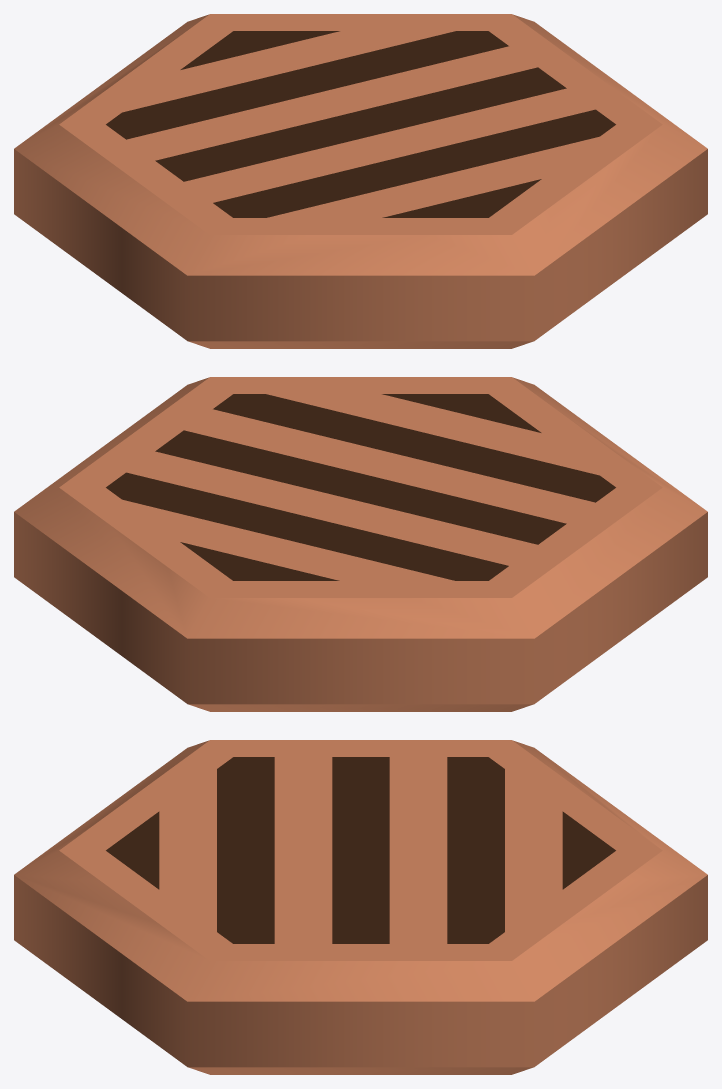
The model's file is Meat Patty.glb.
3 renders of one model, top to bottom at view 1: azimuth 30°, elevation 25°; view 2: azimuth 150°, elevation 25°; view 3: azimuth 270°, elevation 25°, orthographic.
Visible parts, largest first — view 1: Meat Patty; view 2: Meat Patty; view 3: Meat Patty.
Part boxes in pixels (<box>): Meat Patty: <box>14,14,707,348</box>; Meat Patty: <box>14,377,707,711</box>; Meat Patty: <box>14,740,707,1074</box>.
Bounding box in the file's own units: 0.1328 × 0.0277 × 0.1533.
